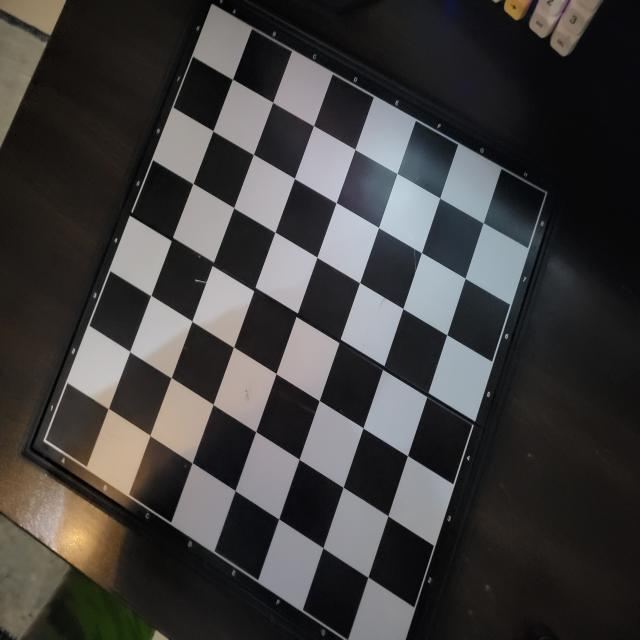chess-board: (34, 1, 550, 640)
